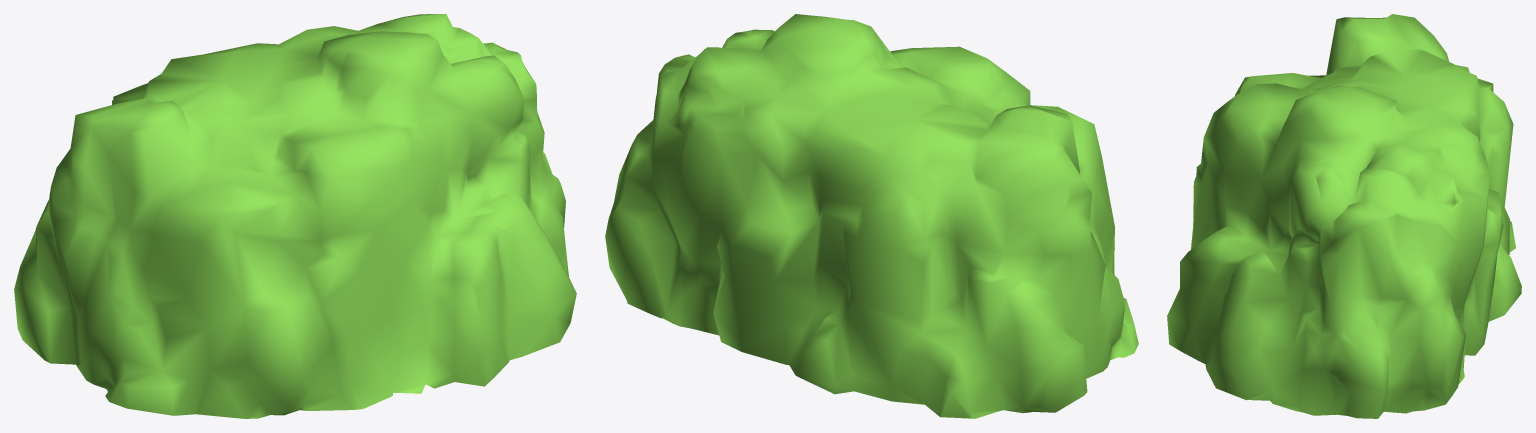
The model's file is rock_half_04.FBX.
The picture shows the model from 3 angles, left to right: view 1: azimuth 30°, elevation 25°; view 2: azimuth 150°, elevation 25°; view 3: azimuth 270°, elevation 25°; orthographic projection. The views are drawn at different scales.
Parts seen in each view (by area): view 1: rock_half_04; view 2: rock_half_04; view 3: rock_half_04.
Part boxes in pixels (<box>): rock_half_04: <box>14,14,576,418</box>; rock_half_04: <box>605,14,1138,418</box>; rock_half_04: <box>1167,14,1521,418</box>.
Size of the model in its own units: 712 by 384 by 505.
